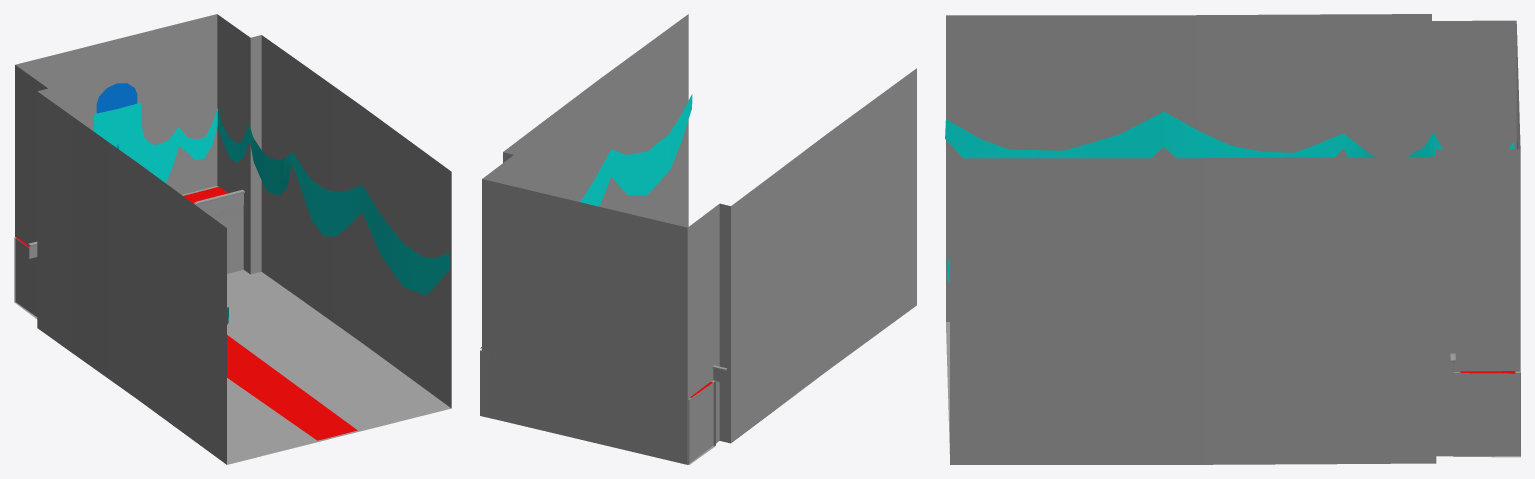
Rendered from stage1.fbx.
The picture shows the model from 3 angles, left to right: view 1: azimuth 30°, elevation 25°; view 2: azimuth 150°, elevation 25°; view 3: azimuth 270°, elevation 25°; orthographic projection. The views are drawn at different scales.
Visible parts, largest first — view 1: pCube5, pPlane4, polySurface8, polySurface7, pPlane2, pPlane3, polySurface6; view 2: pCube5, pPlane4, polySurface7; view 3: pCube5, pPlane3.
Part boxes in pixels (x1,y1,x2,y2): pCube5: (15, 14, 451, 464); pPlane4: (117, 102, 450, 295); polySurface8: (16, 187, 357, 440); polySurface7: (14, 186, 243, 319); pPlane2: (96, 83, 137, 148); pPlane3: (94, 109, 228, 324); polySurface6: (196, 193, 243, 213); pCube5: (482, 14, 916, 464); pPlane4: (579, 94, 692, 206); polySurface7: (480, 349, 715, 464); pCube5: (946, 14, 1520, 464); pPlane3: (945, 111, 1514, 158).
Bounding box in the file's own units: 1524 × 1501 × 2553.
